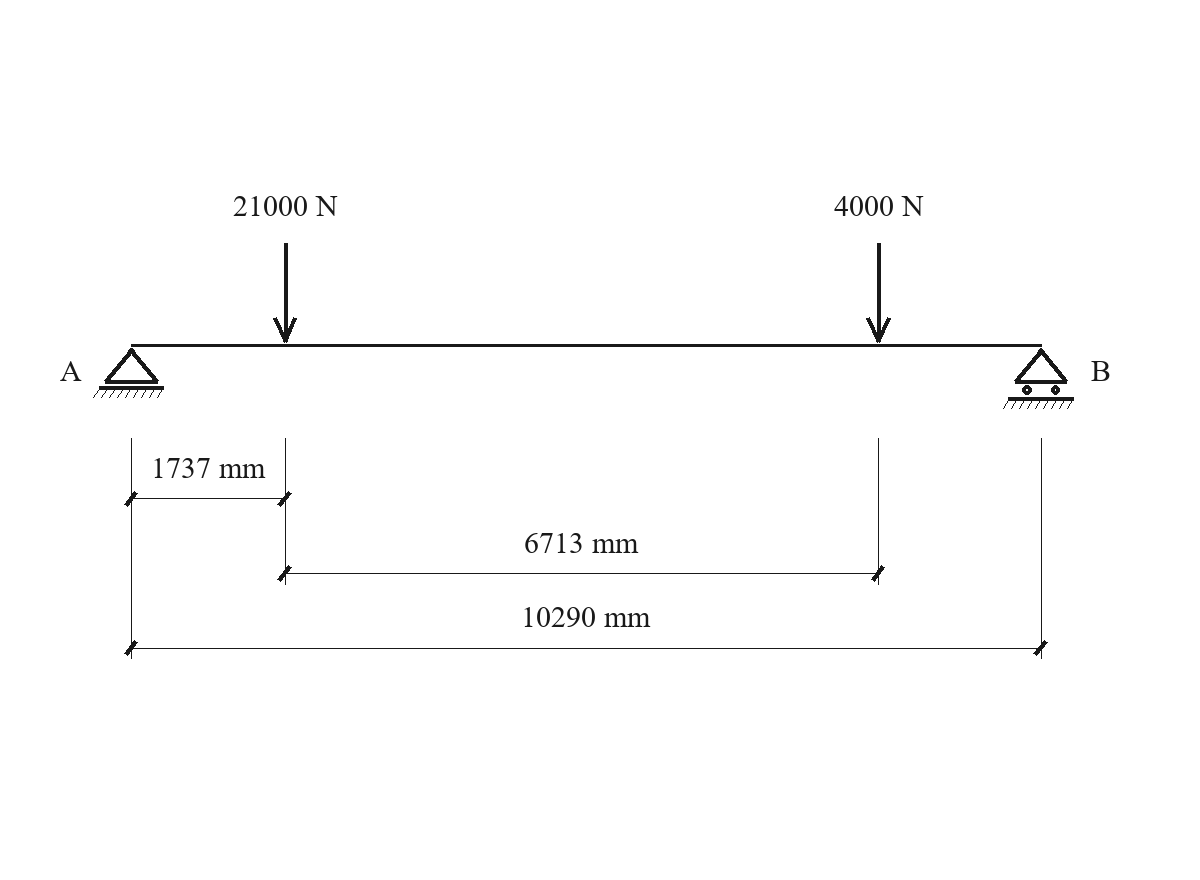pin_support: (93, 348, 164, 398)
point_load: (866, 243, 891, 343), (273, 243, 297, 343)
roller_support: (1003, 348, 1074, 409)
